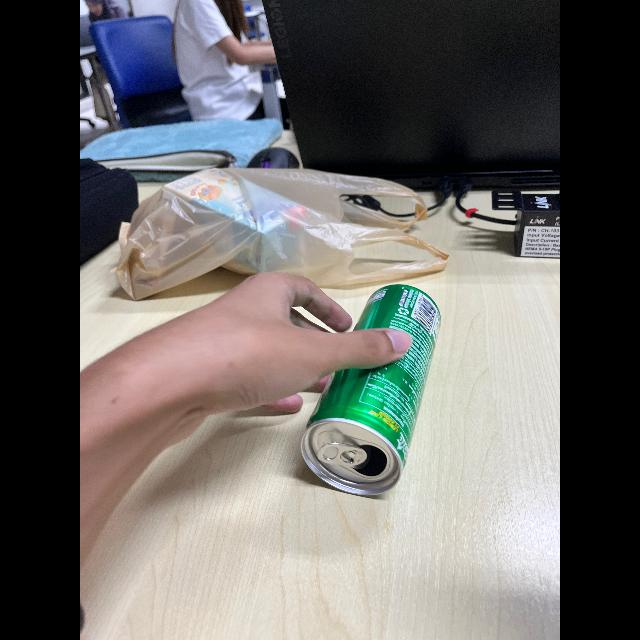can: (294, 273, 448, 511)
